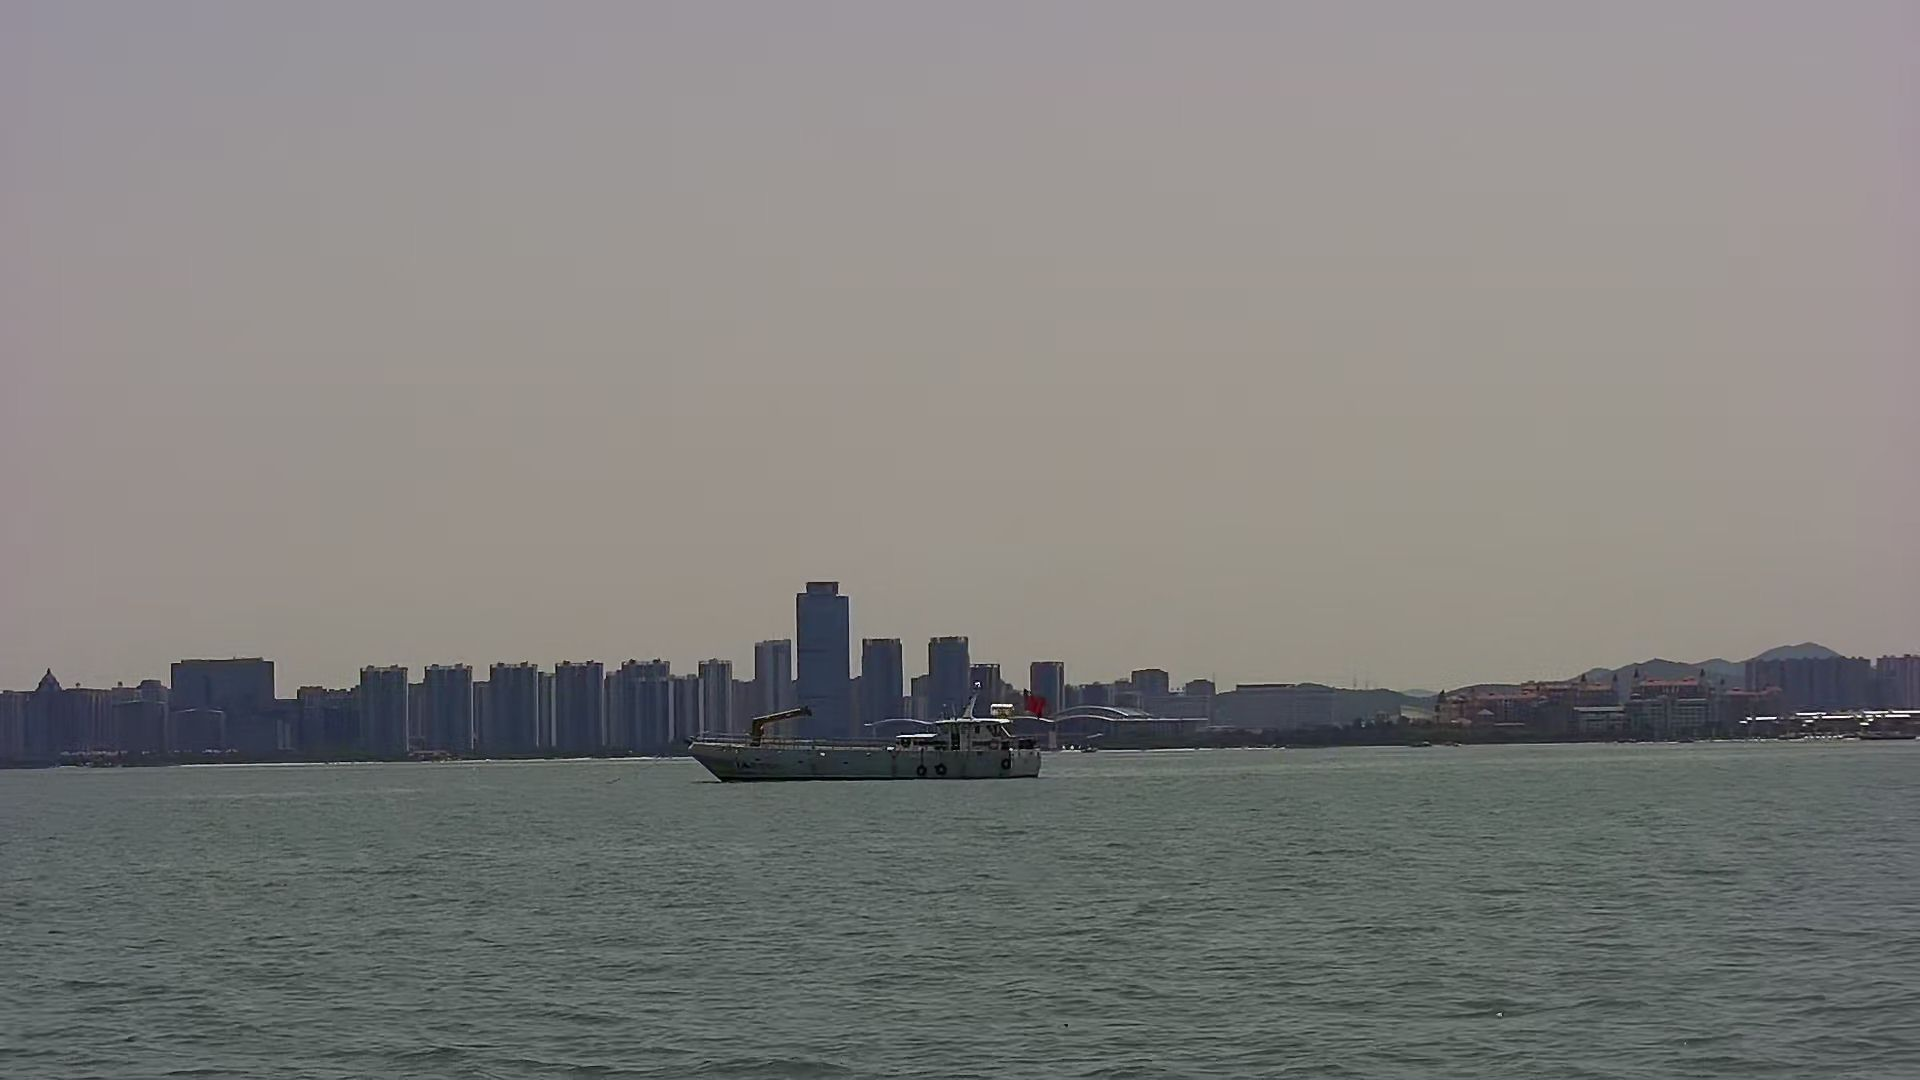ship: (680, 686, 1048, 789)
